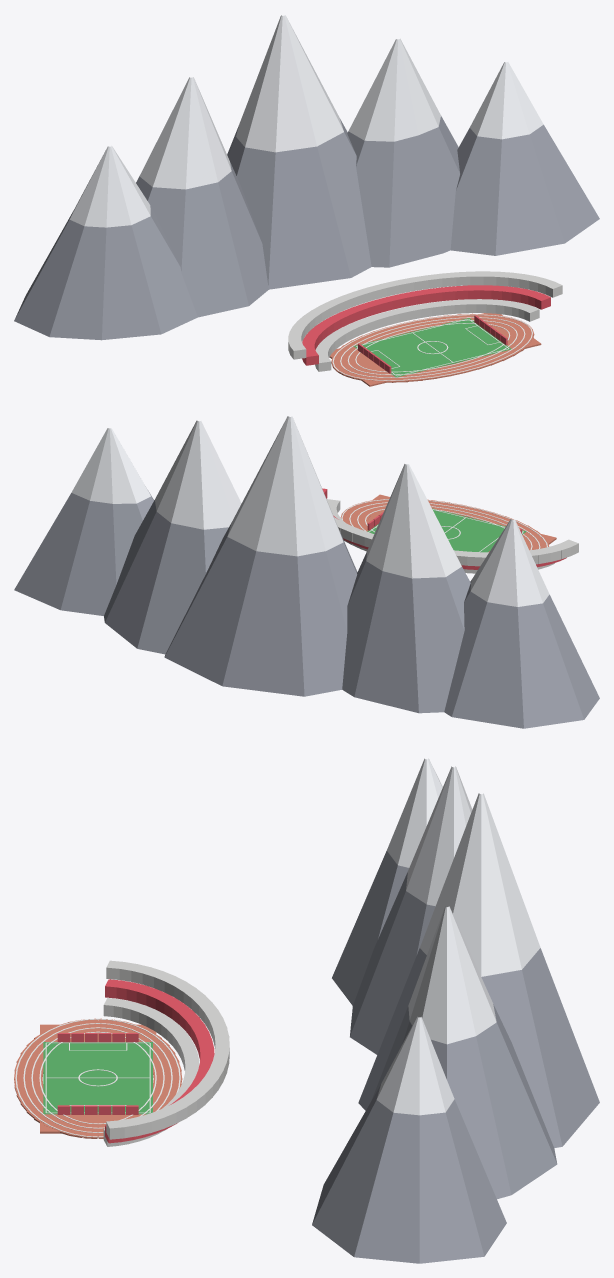
Rendered from SM_Stage_Nunoa_CL.glb.
3 views of the same model, one above another, from view 1: azimuth 30°, elevation 25°; view 2: azimuth 150°, elevation 25°; view 3: azimuth 270°, elevation 25° (orthographic). The views are drawn at different scales.
Parts seen in each view (by area): view 1: SM_Stage_Nunoa_CL; view 2: SM_Stage_Nunoa_CL; view 3: SM_Stage_Nunoa_CL.
Boxes of the visible parts, bbox=[...] form: SM_Stage_Nunoa_CL: bbox=[14, 15, 599, 386]; SM_Stage_Nunoa_CL: bbox=[14, 416, 599, 728]; SM_Stage_Nunoa_CL: bbox=[14, 758, 599, 1263].
Bounding box in the file's own units: 120 × 48 × 85.65.
